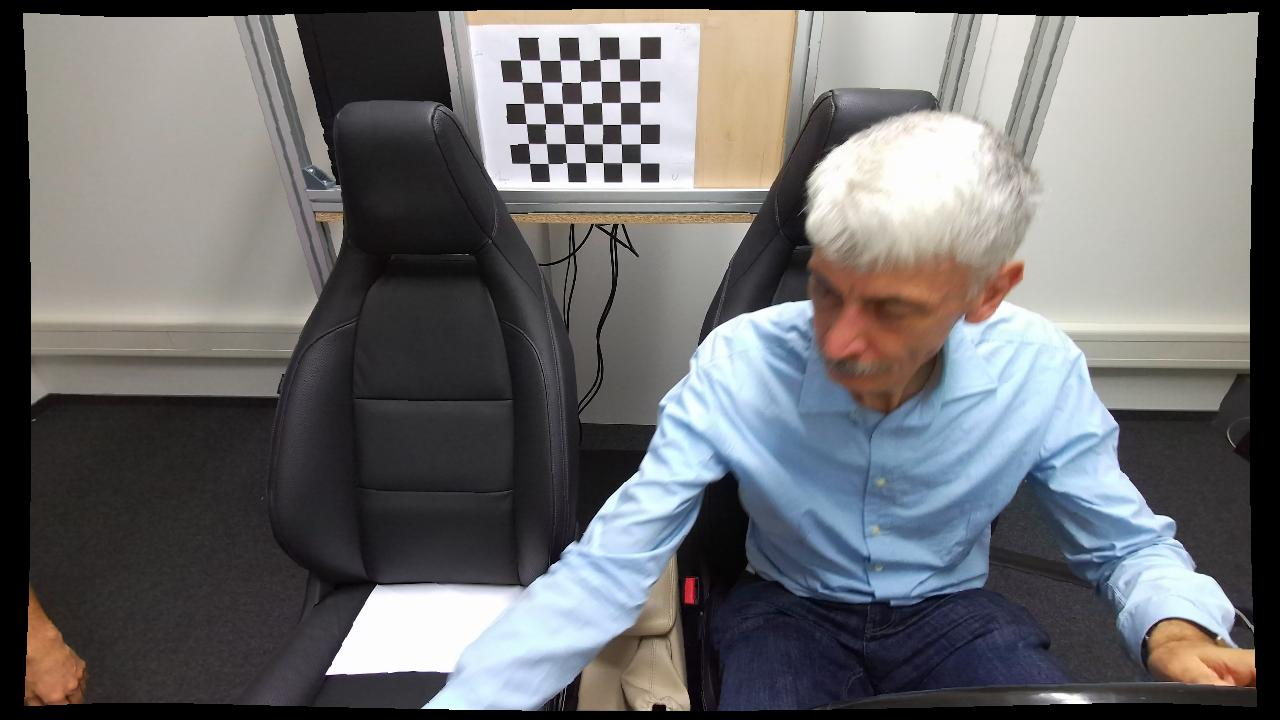Distracted: (421, 109, 1205, 709)
